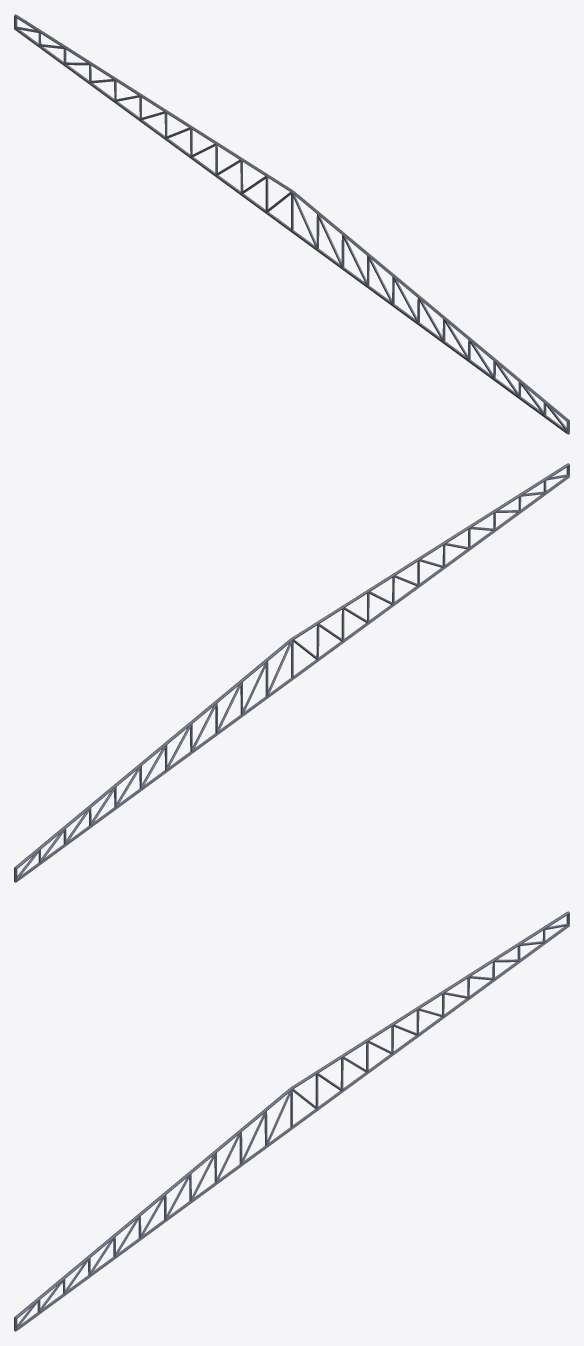
The model's file is WareBig_Detail.FBX.
3 views of the same model, one above another, from view 1: azimuth 30°, elevation 25°; view 2: azimuth 150°, elevation 25°; view 3: azimuth 330°, elevation 25° (orthographic).
Parts seen in each view (by area): view 1: WareBig_Detail; view 2: WareBig_Detail; view 3: WareBig_Detail.
Boxes of the visible parts, left/top/right/bottom form: WareBig_Detail: left=14, top=14, right=569, bottom=434; WareBig_Detail: left=14, top=463, right=569, bottom=882; WareBig_Detail: left=14, top=911, right=569, bottom=1331.
Size of the model in its own units: 4.7 by 59.82 by 1425.
